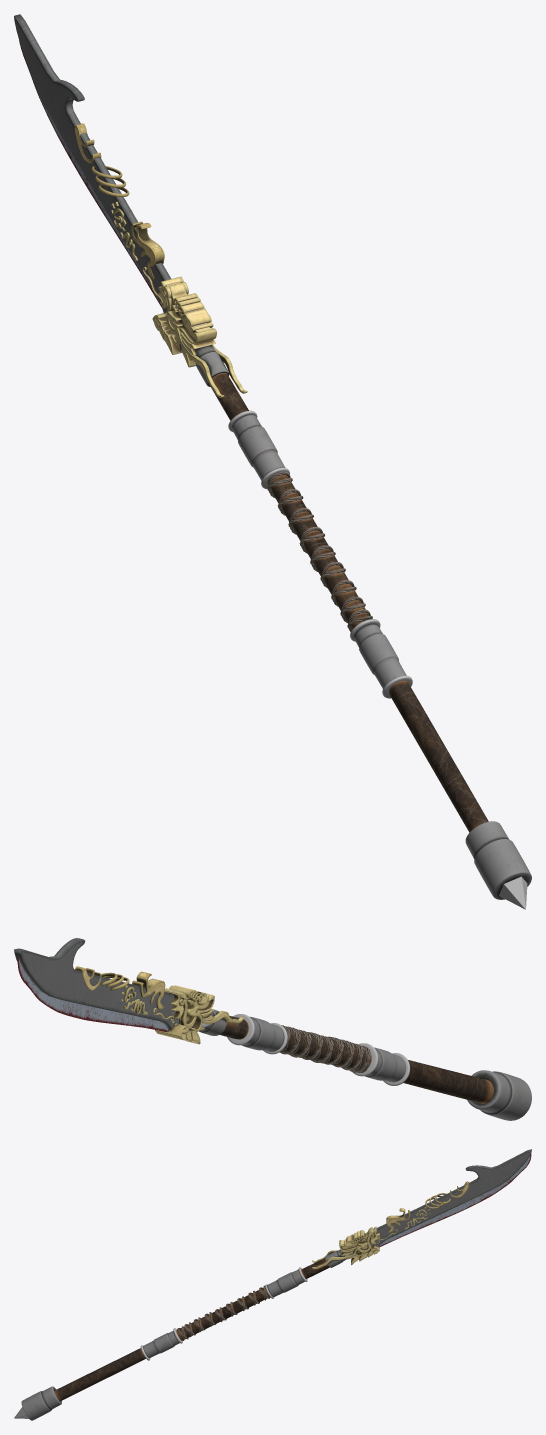
Rendered from ancient_chinese_decorative_glaive-transformed.glb.
3 renders of one model, top to bottom at view 1: azimuth 30°, elevation 25°; view 2: azimuth 150°, elevation 25°; view 3: azimuth 270°, elevation 25°, orthographic. The views are drawn at different scales.
Visible parts, largest first — view 1: defaultMaterial (×7); view 2: defaultMaterial (×8); view 3: defaultMaterial (×7).
Boxes of the visible parts, x1,y1,x2,y2 form: defaultMaterial (×7): [14, 14, 531, 909]; defaultMaterial (×8): [14, 938, 531, 1120]; defaultMaterial (×7): [21, 1149, 531, 1420].
Bounding box in the file's own units: 0.8968 × 11.7 × 20.39.
8 materials, 7 textured.
